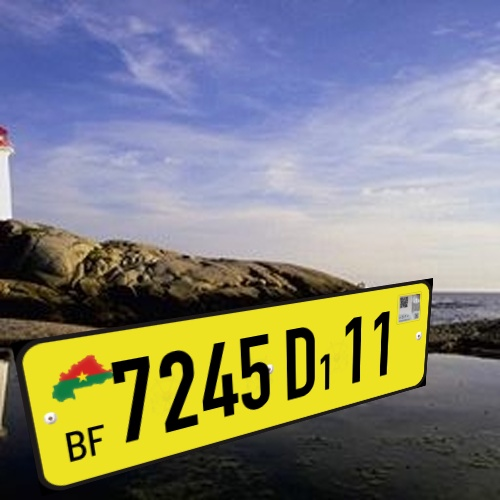plate: (11, 264, 449, 497)
